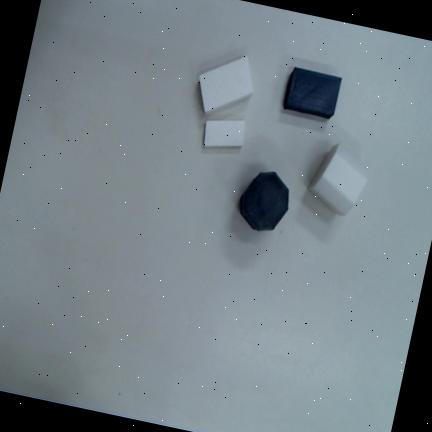Paralelepipedo: (199, 56, 254, 115), (283, 67, 341, 120), (204, 120, 245, 147)
Prisma_hexagonal: (308, 144, 367, 216), (239, 171, 289, 231)
